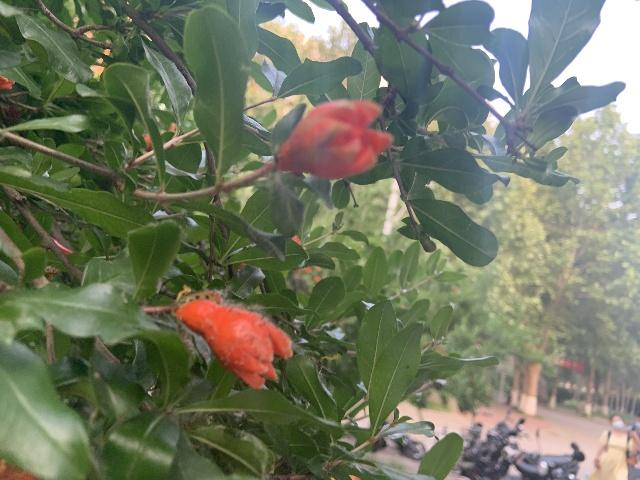flower: (176, 299, 293, 389), (277, 98, 395, 180)
